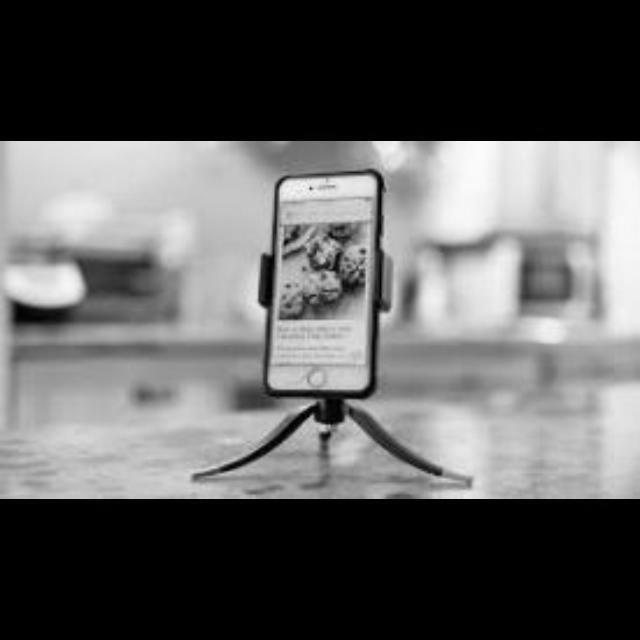fake: (260, 167, 384, 397)
